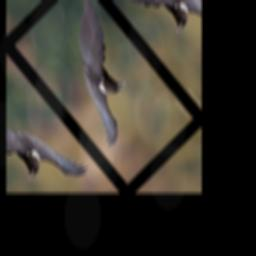Crow: (26, 0, 168, 150)
